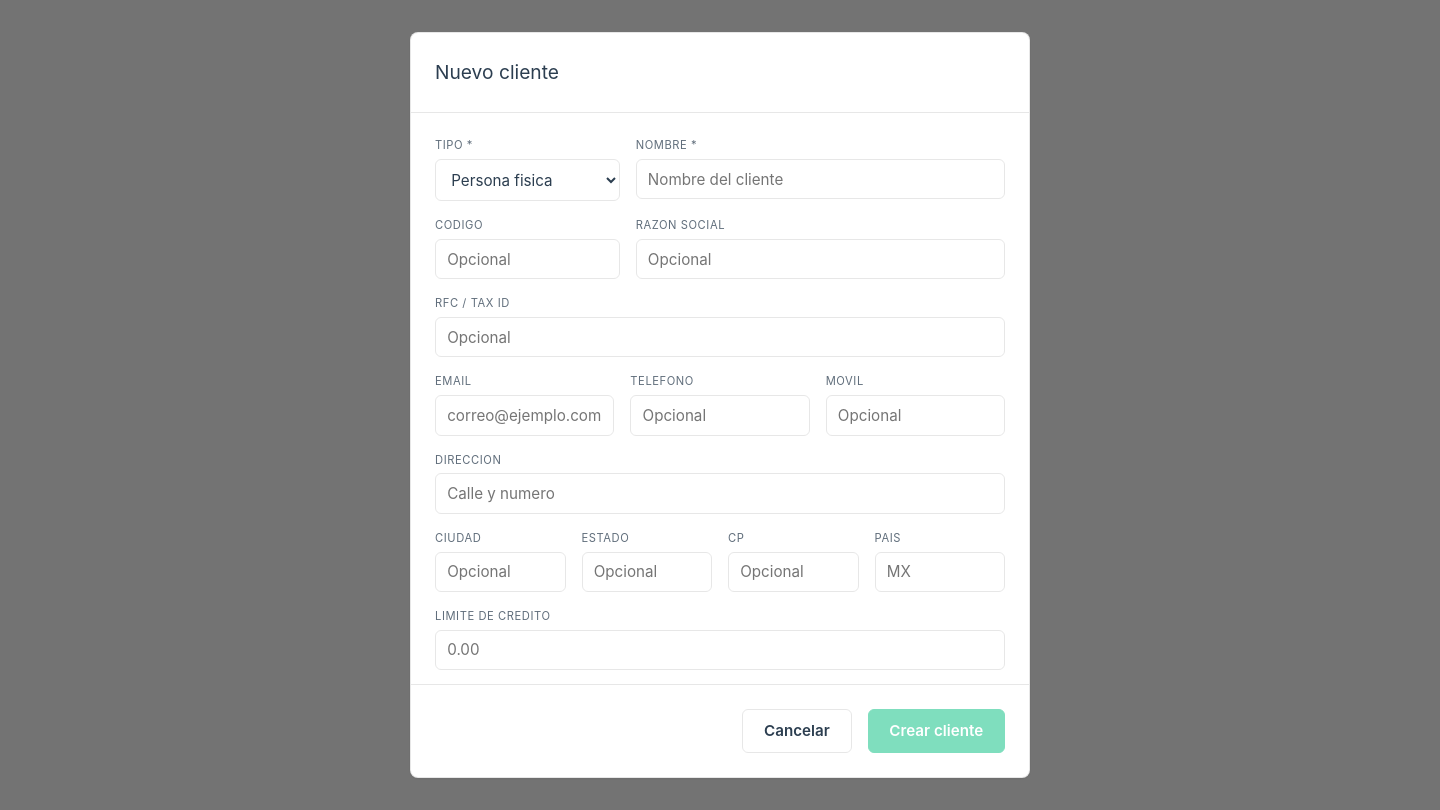
Test: CustomerFormModal › submit habilitado con nombre
The image size is (1440, 810).
Type "Cliente Nuevo" into the field with id "c-name" at (820, 179), box left=636, top=159, right=1005, bottom=199
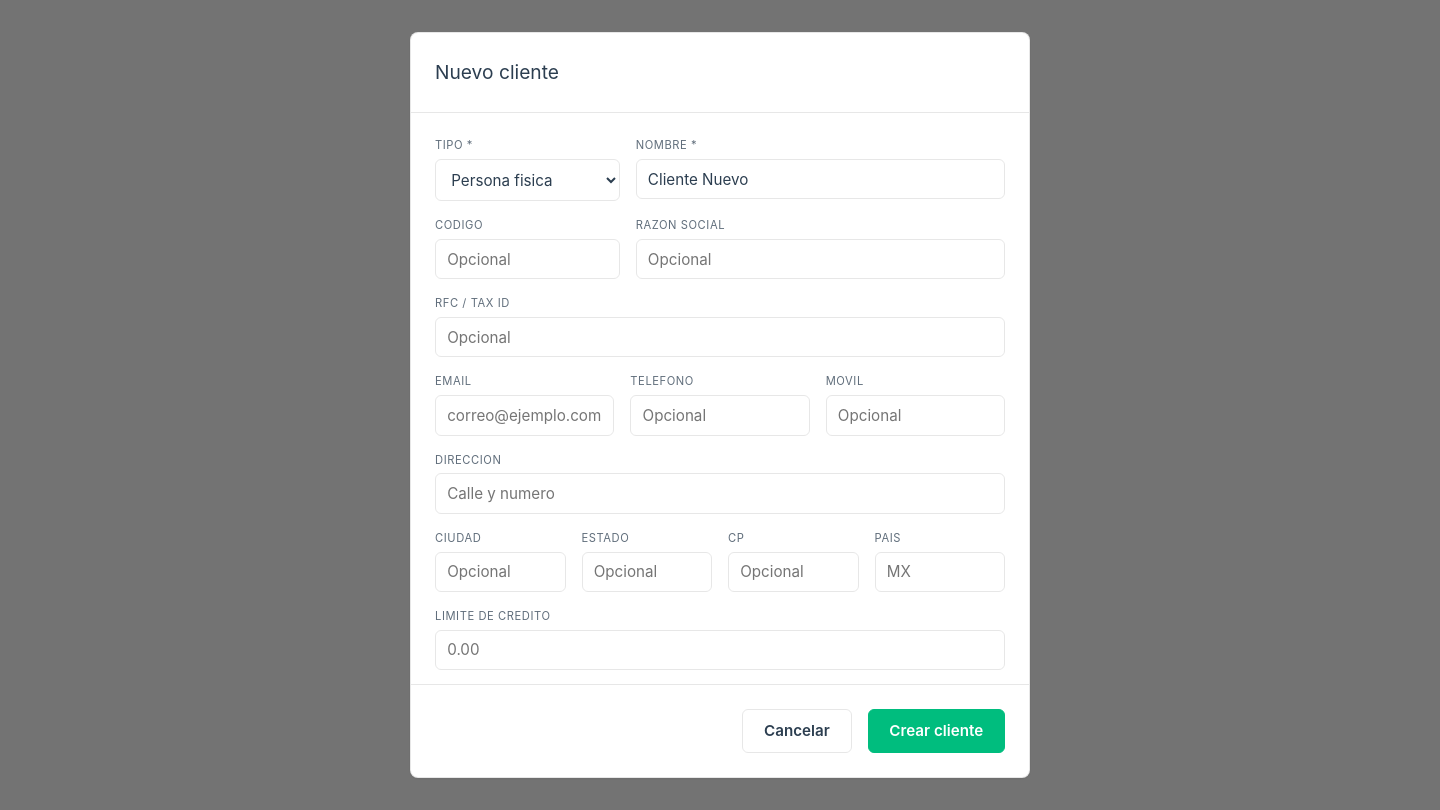
Now the button with class "cust-modal__btn--save" is enabled, box left=868, top=709, right=1005, bottom=753
